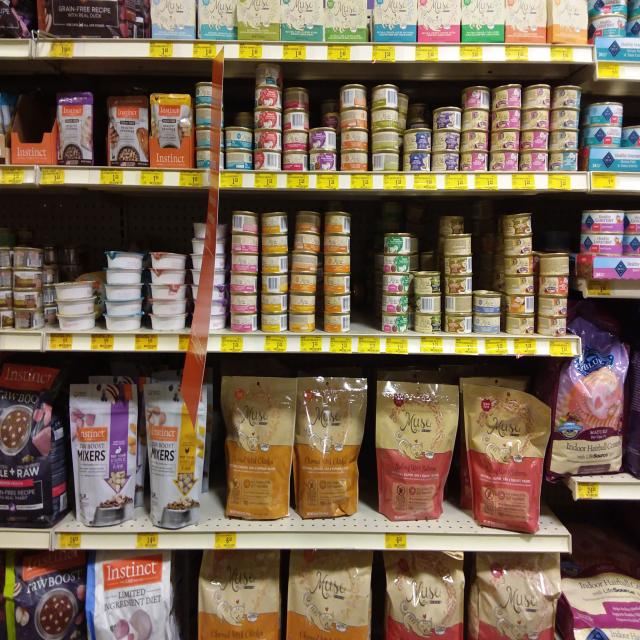100- O.O.S: (354, 202, 379, 353)
